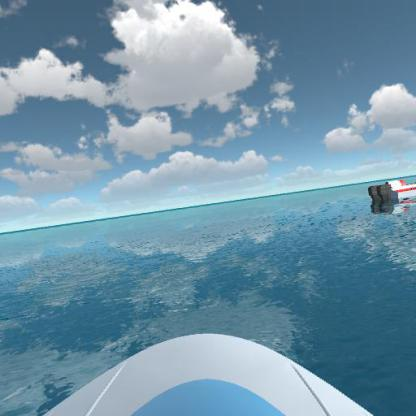usv3: (362, 173, 416, 211)
